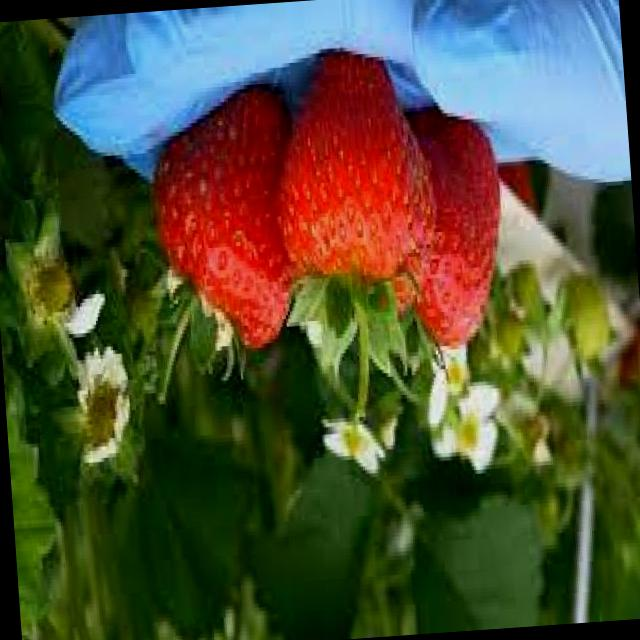Strawberry: (135, 85, 308, 404), (269, 47, 442, 307), (392, 106, 510, 360)
